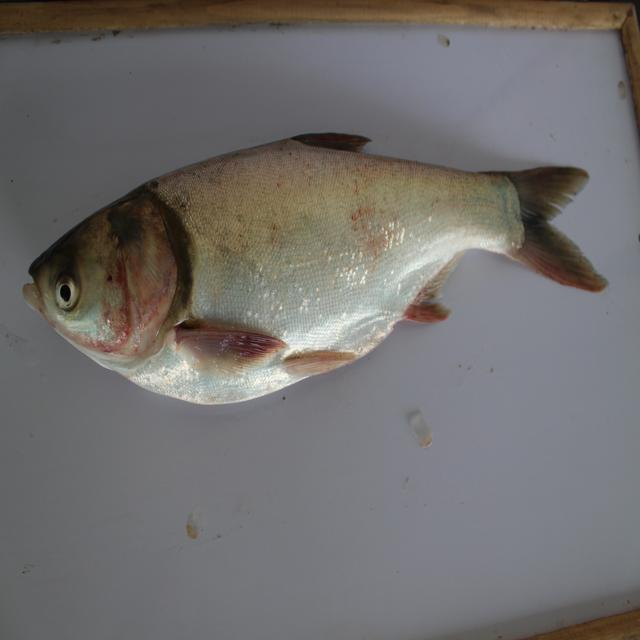SilverCarp: (22, 129, 607, 410)
